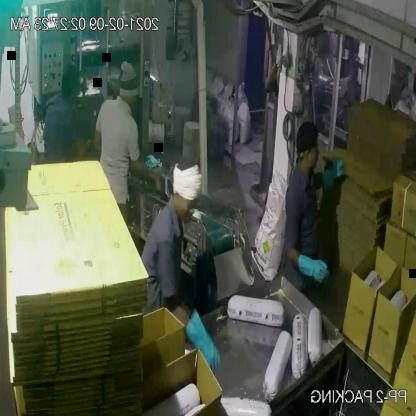glove: (184, 303, 224, 373), (292, 245, 332, 284), (318, 152, 351, 199)
no_glove: (128, 150, 167, 192)
